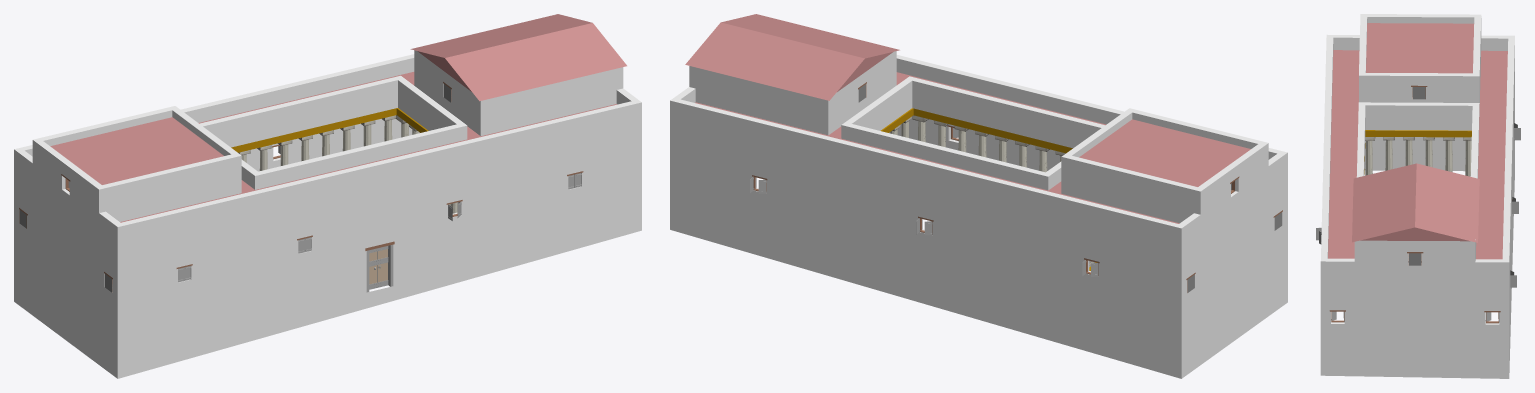
The model's file is LOD_Block_1_89.glb.
The picture shows the model from 3 angles, left to right: view 1: azimuth 30°, elevation 25°; view 2: azimuth 150°, elevation 25°; view 3: azimuth 270°, elevation 25°; orthographic projection. The views are drawn at different scales.
Visible parts, largest first — view 1: _1.2673; view 2: _1.2673; view 3: _1.2673.
Part boxes in pixels (left/top/right/bottom): _1.2673: left=14, top=14, right=641, bottom=378; _1.2673: left=670, top=14, right=1287, bottom=378; _1.2673: left=1316, top=14, right=1520, bottom=378.
Bounding box in the file's own units: 39.59 × 13.85 × 14.99.
21 materials, 2 textured.
